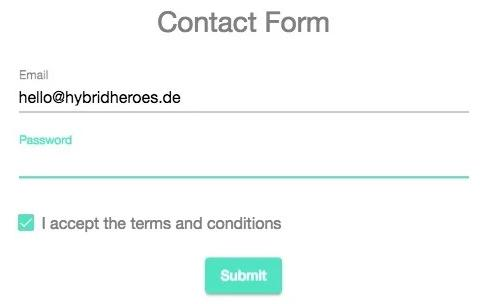button: (204, 256, 285, 297)
checkbox: (16, 212, 39, 232)
checkbox_with_label: (13, 209, 279, 234)
field_line: (16, 133, 471, 180), (16, 83, 472, 116)
field_line_with_label: (14, 66, 476, 119)
